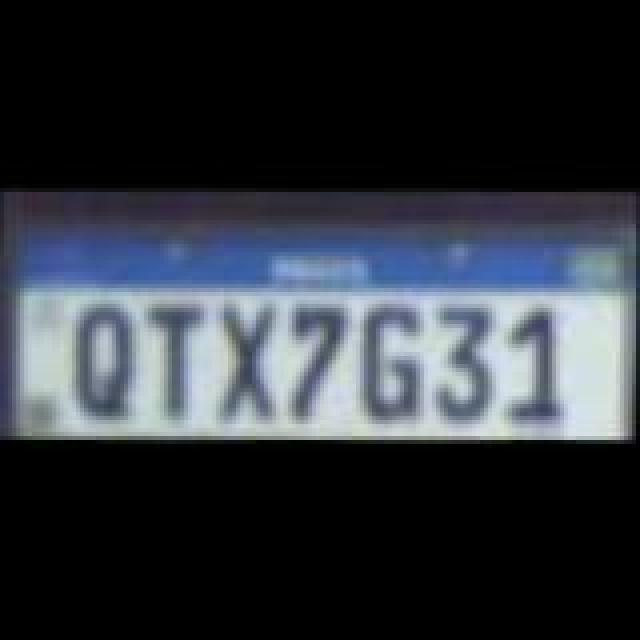1: (504, 304, 572, 428)
3: (426, 302, 498, 426)
7: (292, 300, 352, 420)
G: (358, 296, 422, 420)
K: (212, 298, 280, 430)
Q: (70, 300, 134, 424)
T: (148, 304, 200, 416)
